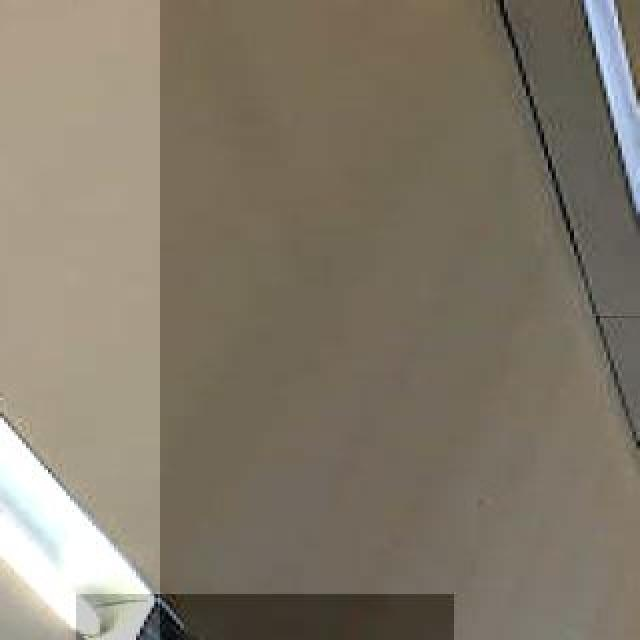fluorescent tube: (0, 0, 162, 640), (80, 602, 452, 640)
